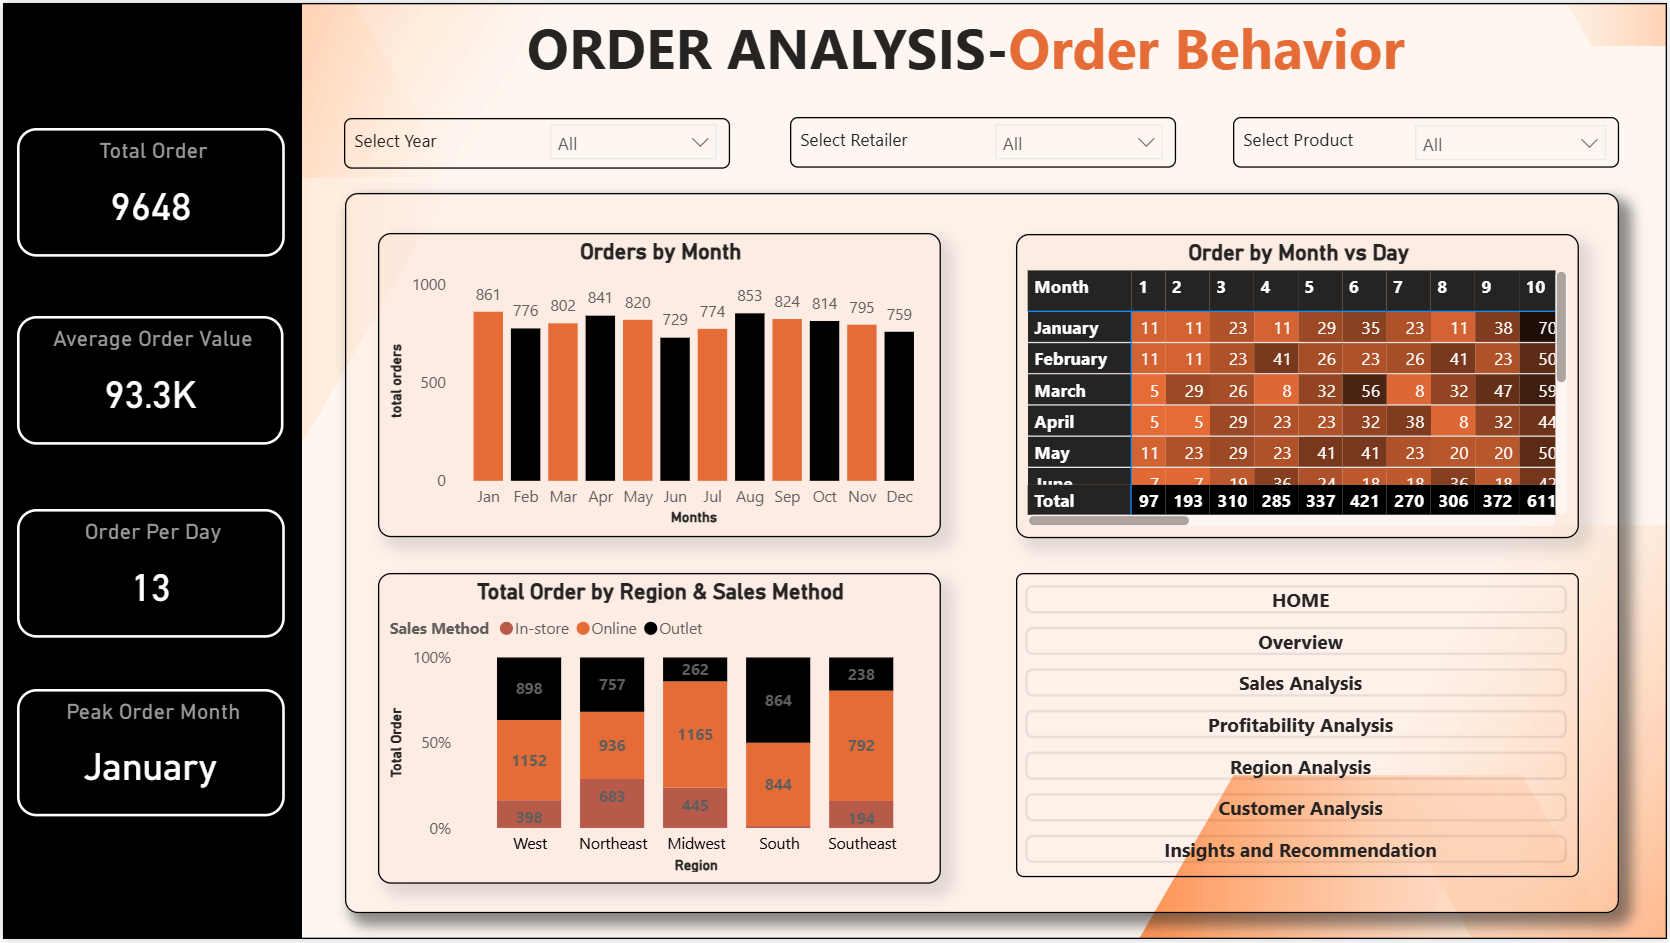

The page's visual inventory and layout, read from the dashboard file:
{"tool":"powerbi","page":{"name":"Order Analysis","canvas":[1280,720],"ordinal":3},"visuals":[{"type":"textbox","box":[0,0,1280,720],"z":0},{"type":"textbox","box":[317.6,0,845.9,78.6],"z":1000},{"type":"textbox","box":[263,146,980.2,554.2],"z":2000},{"type":"textbox","box":[0,0,230,719.8],"z":3000},{"type":"card","title":"Total Order","fields":{"Values":["Data Sales Adidas.total orders"]},"box":[10.6,96.4,205.7,98.7],"z":4000},{"type":"card","title":"Average Order Value","fields":{"Values":["Data Sales Adidas.average order value"]},"box":[11,240.6,205.1,98.7],"z":5000},{"type":"card","title":"Order Per Day","fields":{"Values":["Data Sales Adidas.Orders per Day"]},"box":[10.6,389.1,205.7,98.7],"z":6000},{"type":"pivotTable","title":"Order by Month vs Day","fields":{"Rows":["Data Sales Adidas.Order Date.Variation.Date Hierarchy.Month"],"Values":["Data Sales Adidas.total orders"],"Columns":["Data Sales Adidas.Order Date.Variation.Date Hierarchy.Day"]},"box":[779.5,177.5,433.1,234.2],"z":7000},{"type":"hundredPercentStackedColumnChart","title":"Total Order by Region & Sales Method","fields":{"Category":["Data Sales Adidas.Region"],"Series":["Data Sales Adidas.Sales Method"],"Y":["Data Sales Adidas.total orders"]},"box":[288.5,438.4,432.7,239.1],"z":8000},{"type":"columnChart","title":"Orders by Month","fields":{"Category":["Data Sales Adidas.EXTRACTED MONTH"],"Y":["Data Sales Adidas.total orders"]},"box":[288.8,177.2,433.1,233.6],"z":9000},{"type":"textbox","box":[262.5,88.3,296.7,39.2],"z":10000},{"type":"textbox","box":[605.1,87.9,296.6,39.4],"z":11000},{"type":"textbox","box":[946.4,87.9,296.6,39.4],"z":12000},{"type":"slicer","fields":{"Values":["Data Sales Adidas.Order Date.Variation.Date Hierarchy.Year"]},"box":[410.8,83.1,148.5,48.5],"z":13000},{"type":"slicer","fields":{"Values":["Data Sales Adidas.Retailer"]},"box":[753.1,83.1,149.2,43.8],"z":14000},{"type":"slicer","fields":{"Values":["Data Sales Adidas.Product"]},"box":[1076,83.5,167,45.5],"z":15000},{"type":"card","title":"Peak Order Month","fields":{"Values":["Min(Data Sales Adidas.Order Date.Variation.Date Hierarchy.Month)"]},"box":[10.6,527.8,205.7,97.6],"z":16000},{"type":"textbox","box":[779.5,438.4,433.1,234.2],"z":17000},{"type":"pageNavigator","box":[786,448.1,417,216],"z":18000}]}

Visuals, with their boxes in screenshot pixels (x1, y1, x2, y2), scaled from the page's 1280x720 canvas onto the 1670x943 screenshot:
textbox: 0, 0, 1669, 942
textbox: 414, 0, 1518, 103
textbox: 343, 191, 1622, 917
textbox: 0, 0, 300, 942
"Total Order" card: 14, 126, 282, 256
"Average Order Value" card: 14, 315, 282, 444
"Order Per Day" card: 14, 510, 282, 639
"Order by Month vs Day" pivotTable: 1017, 232, 1582, 539
"Total Order by Region & Sales Method" hundredPercentStackedColumnChart: 376, 574, 941, 887
"Orders by Month" columnChart: 377, 232, 942, 538
textbox: 342, 116, 730, 167
textbox: 789, 115, 1176, 167
textbox: 1235, 115, 1622, 167
slicer - Data Sales Adidas.Order Date.Variation.Date Hierarchy.Year: 536, 109, 730, 172
slicer - Data Sales Adidas.Retailer: 983, 109, 1177, 166
slicer - Data Sales Adidas.Product: 1404, 109, 1622, 169
"Peak Order Month" card: 14, 691, 282, 819
textbox: 1017, 574, 1582, 881
pageNavigator: 1025, 587, 1570, 870
